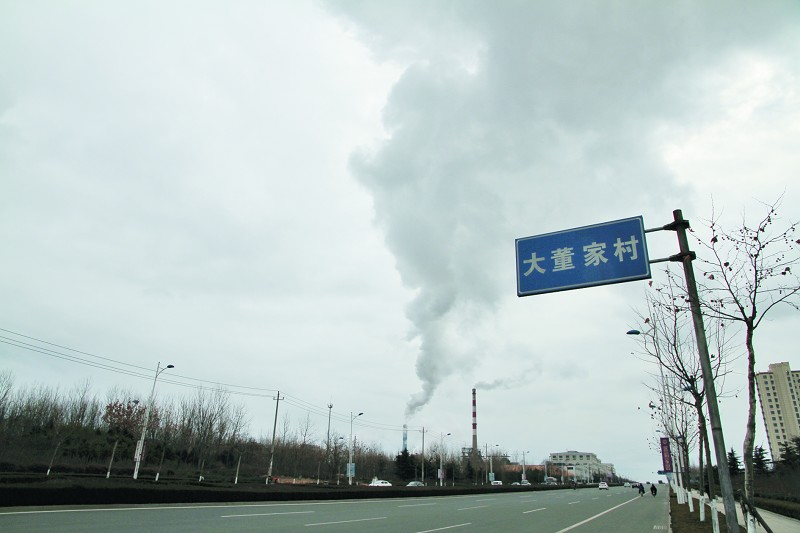dust: (385, 333, 457, 433), (465, 354, 559, 401)
